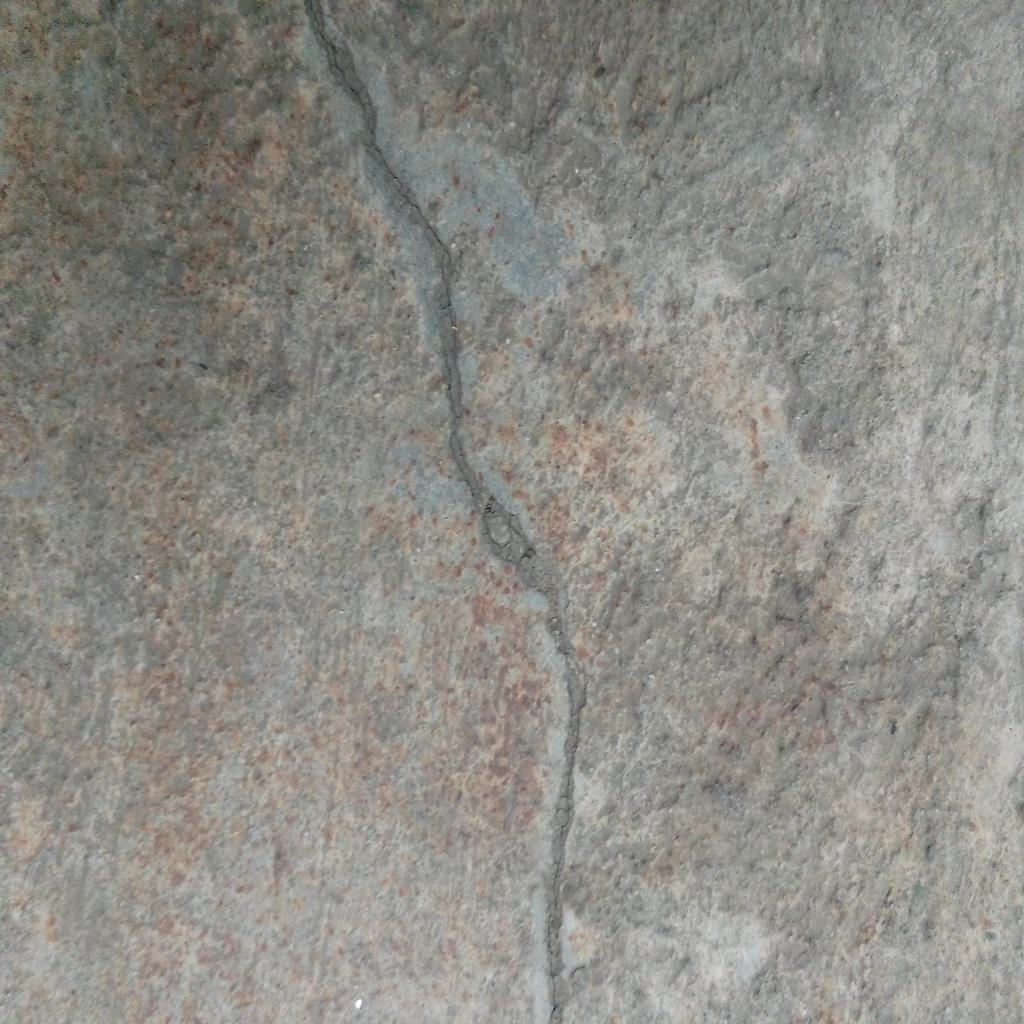Crack: (303, 1, 589, 1024)
